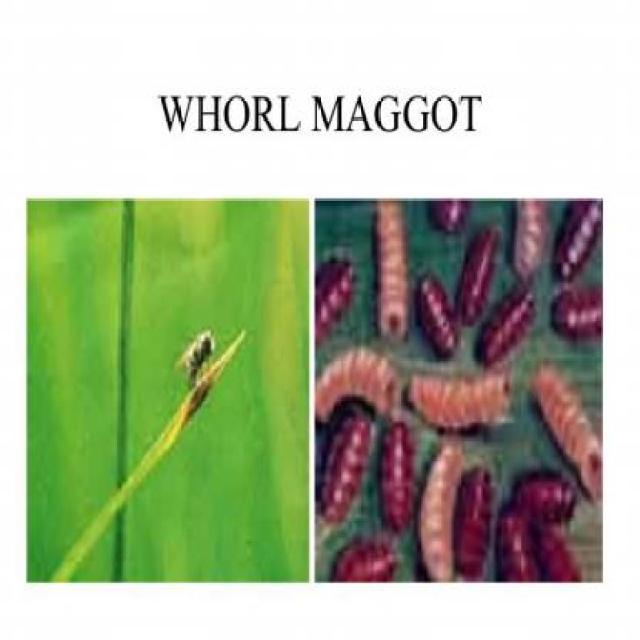whorl-maggot: (534, 356, 604, 501), (418, 431, 467, 575), (404, 369, 519, 429), (450, 217, 507, 331), (363, 199, 409, 339), (316, 409, 371, 526), (316, 347, 399, 423), (452, 459, 499, 581), (473, 286, 539, 364), (381, 414, 419, 534), (548, 200, 599, 282), (310, 261, 358, 341), (513, 476, 583, 529), (331, 536, 403, 583), (512, 200, 549, 282), (494, 513, 538, 580), (420, 274, 457, 352), (544, 286, 599, 337), (529, 526, 579, 581)
